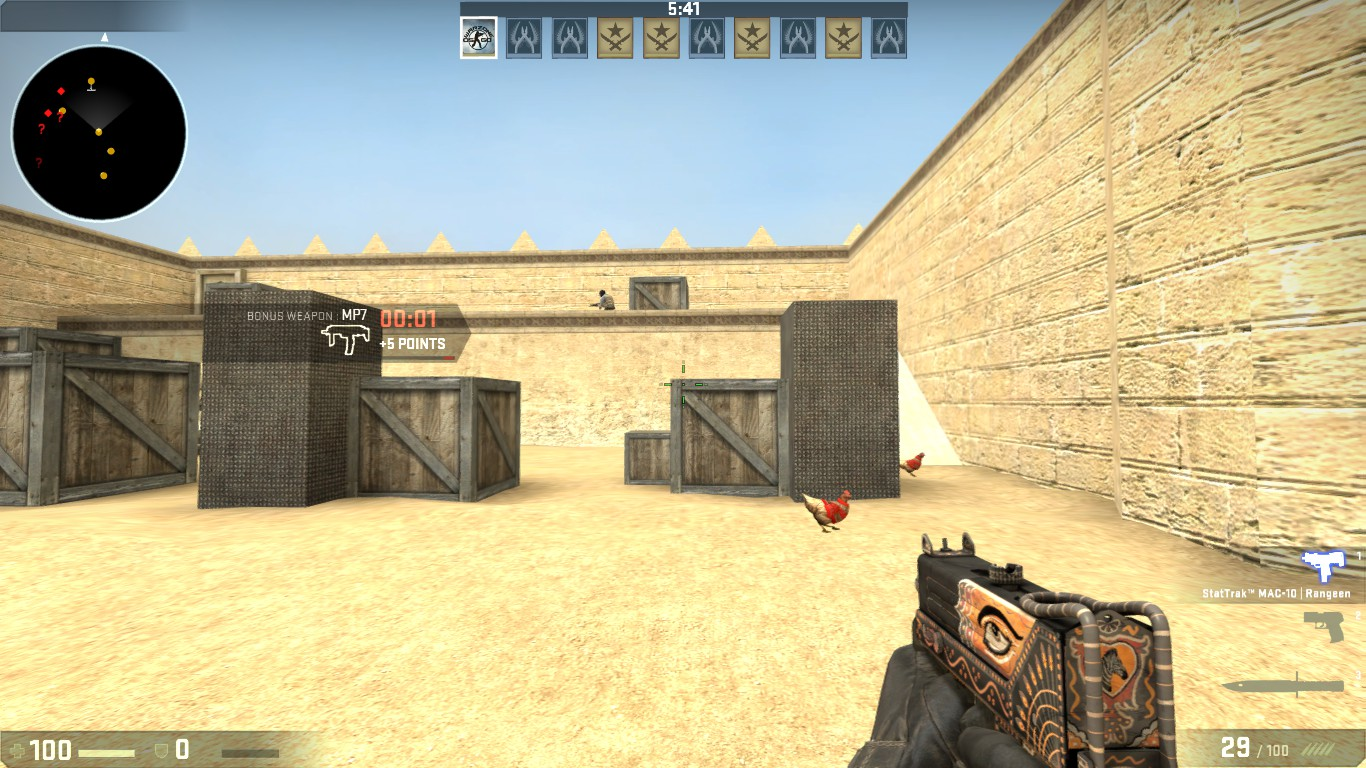t: (595, 288, 616, 311)
th: (597, 289, 606, 297)
